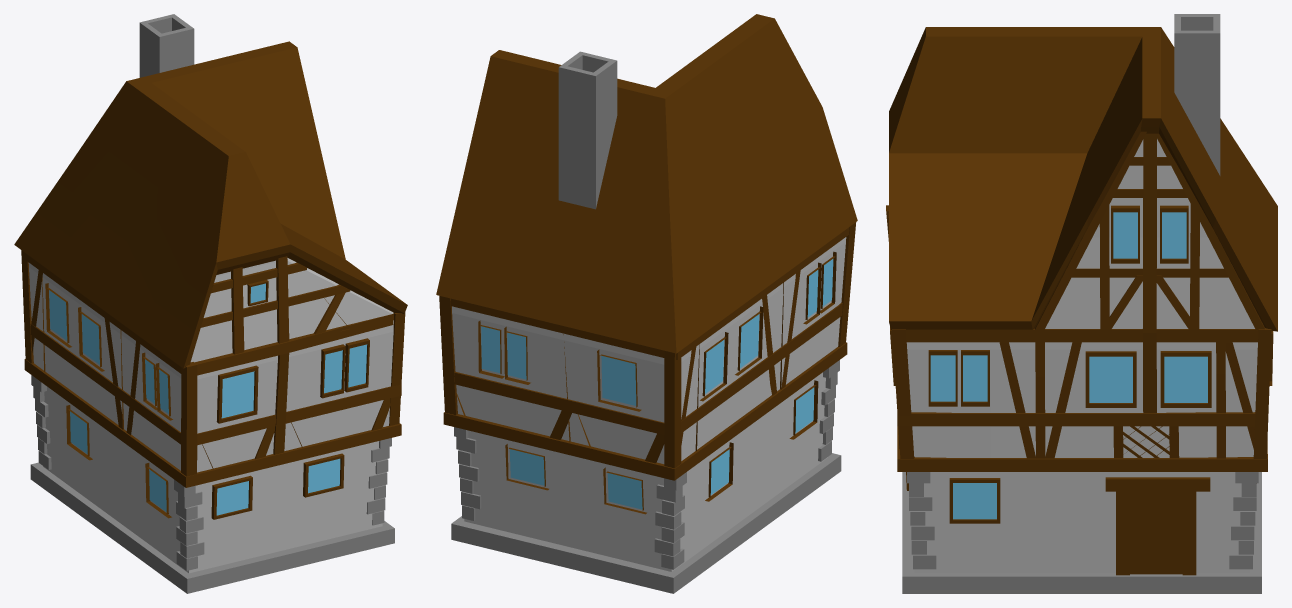
The picture shows the model from 3 angles, left to right: view 1: azimuth 30°, elevation 25°; view 2: azimuth 150°, elevation 25°; view 3: azimuth 270°, elevation 25°; orthographic projection. The views are drawn at different scales.
Visible parts, largest first — view 1: base_Cube.030; view 2: base_Cube.030; view 3: base_Cube.030.
Part boxes in pixels (x1=…): base_Cube.030: x1=14, y1=14, x2=407, y2=593; base_Cube.030: x1=436, y1=14, x2=857, y2=593; base_Cube.030: x1=886, y1=14, x2=1277, y2=593.
Bounding box in the file's own units: 0.1242 × 0.2369 × 0.1635.
